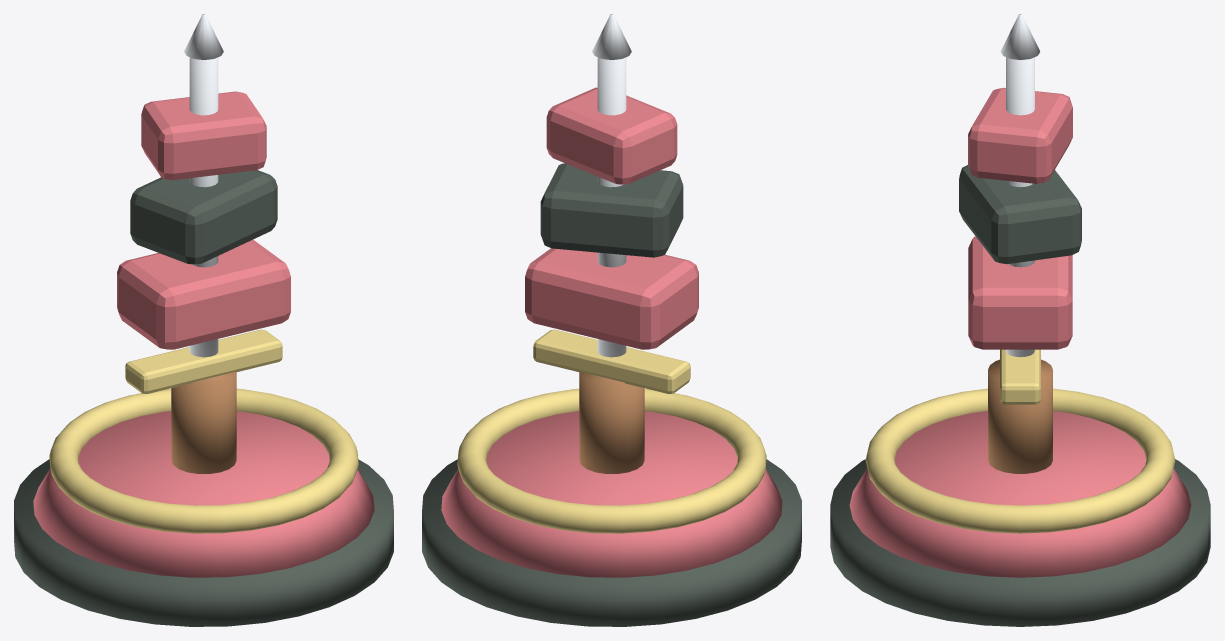
File: pawn_espeto.glb
The picture shows the model from 3 angles, left to right: view 1: azimuth 30°, elevation 25°; view 2: azimuth 150°, elevation 25°; view 3: azimuth 270°, elevation 25°; orthographic projection.
Parts seen in each view (by area): view 1: PedestalColor, PedestalObsidian, PedestalGoldTrim, CutLow, CutMid, CutTop, WoodGrip, CrossGuard, SteelBlade, TipCap; view 2: PedestalColor, PedestalObsidian, PedestalGoldTrim, CutLow, CutMid, CutTop, WoodGrip, CrossGuard, SteelBlade, TipCap; view 3: PedestalColor, PedestalObsidian, PedestalGoldTrim, CutLow, CutMid, CutTop, WoodGrip, CrossGuard, SteelBlade, TipCap.
Boxes of the visible parts, x1,y1,x2,y2 form: PedestalColor: [33, 411, 374, 577]; PedestalObsidian: [14, 459, 393, 626]; PedestalGoldTrim: [49, 388, 358, 533]; CutLow: [117, 239, 290, 349]; CutMid: [130, 170, 277, 264]; CutTop: [141, 91, 266, 180]; WoodGrip: [171, 371, 236, 473]; CrossGuard: [125, 329, 282, 393]; SteelBlade: [189, 57, 218, 357]; TipCap: [184, 14, 223, 59]; PedestalColor: [441, 411, 782, 577]; PedestalObsidian: [422, 459, 801, 626]; PedestalGoldTrim: [457, 388, 766, 533]; CutLow: [525, 248, 698, 349]; CutMid: [540, 163, 683, 257]; CutTop: [546, 87, 677, 184]; WoodGrip: [579, 371, 644, 473]; CrossGuard: [533, 329, 690, 393]; SteelBlade: [597, 57, 626, 357]; TipCap: [592, 14, 631, 59]; PedestalColor: [849, 411, 1191, 577]; PedestalObsidian: [830, 459, 1210, 626]; PedestalGoldTrim: [865, 388, 1175, 533]; CutLow: [968, 236, 1072, 349]; CutMid: [959, 165, 1081, 264]; CutTop: [968, 87, 1072, 183]; WoodGrip: [988, 359, 1052, 473]; CrossGuard: [1000, 349, 1040, 404]; SteelBlade: [1006, 57, 1034, 357]; TipCap: [1000, 14, 1040, 59].
Size of the model in its own units: 0.42 by 0.6475 by 0.42.
